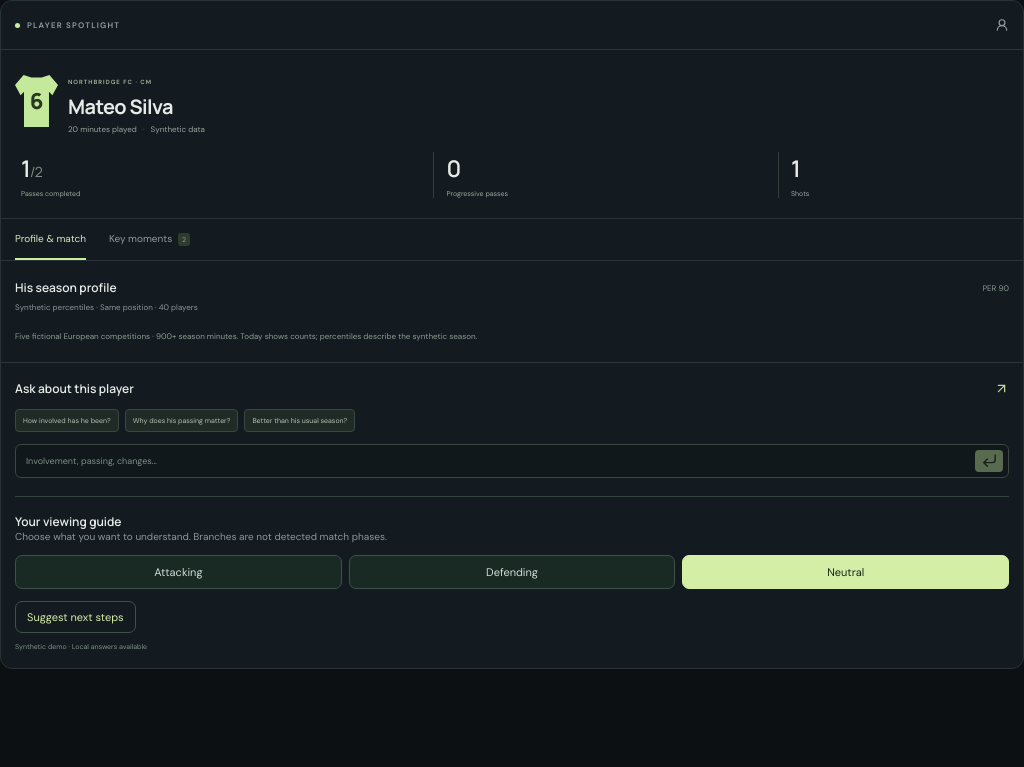
Scenario: exposes aggregate event sources when a factual answer has no sequence claims
The image size is (1024, 767).
Click the button "How involved has he been?": (67, 420) [15,409,119,432]
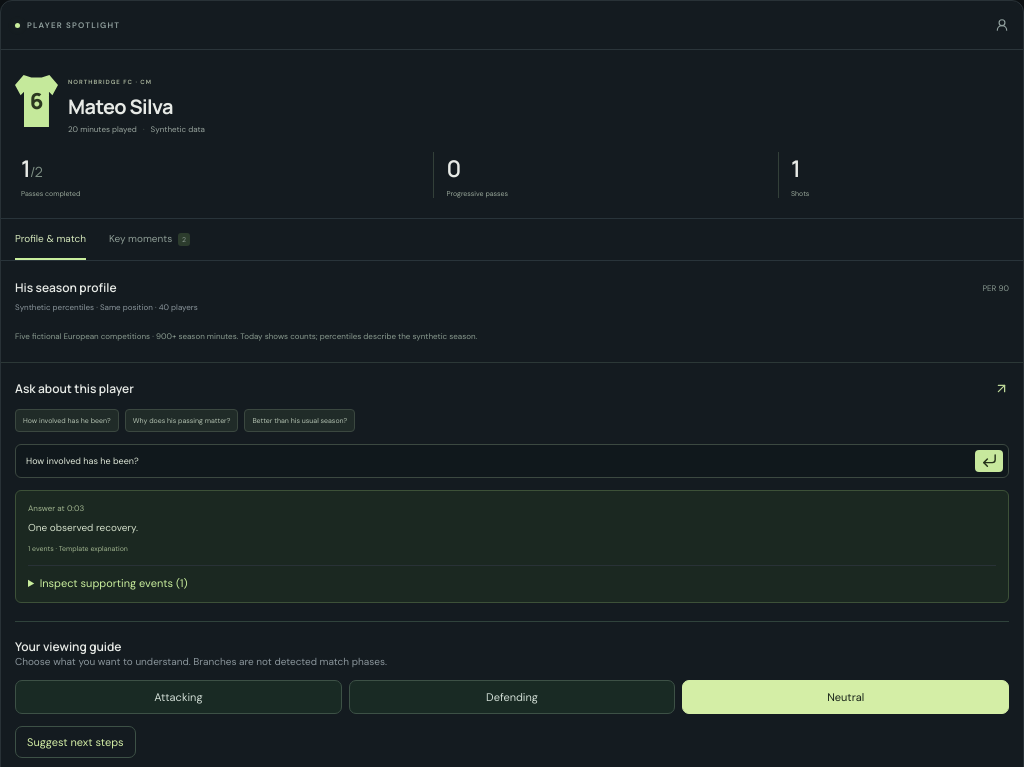
Now the text "One observed recovery." is shown, box [28,521,138,534]
Now the heading "Inspect supporting events (1)" is shown, box [40,576,188,590]
